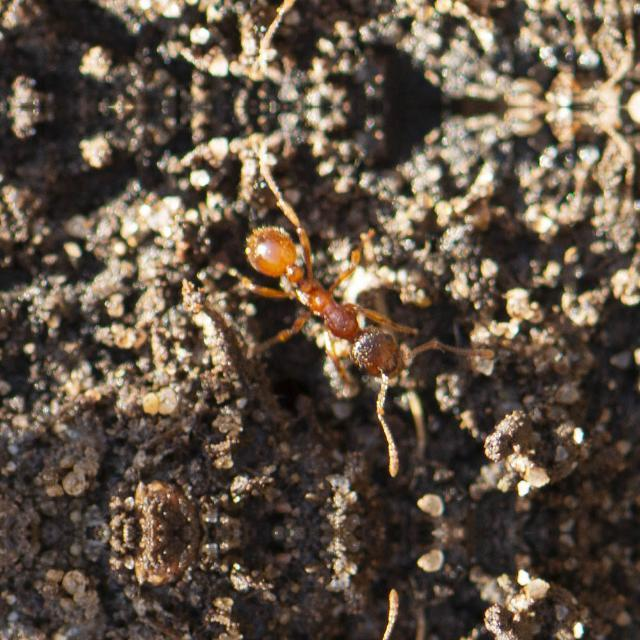Myrmica: (190, 198, 456, 396)
